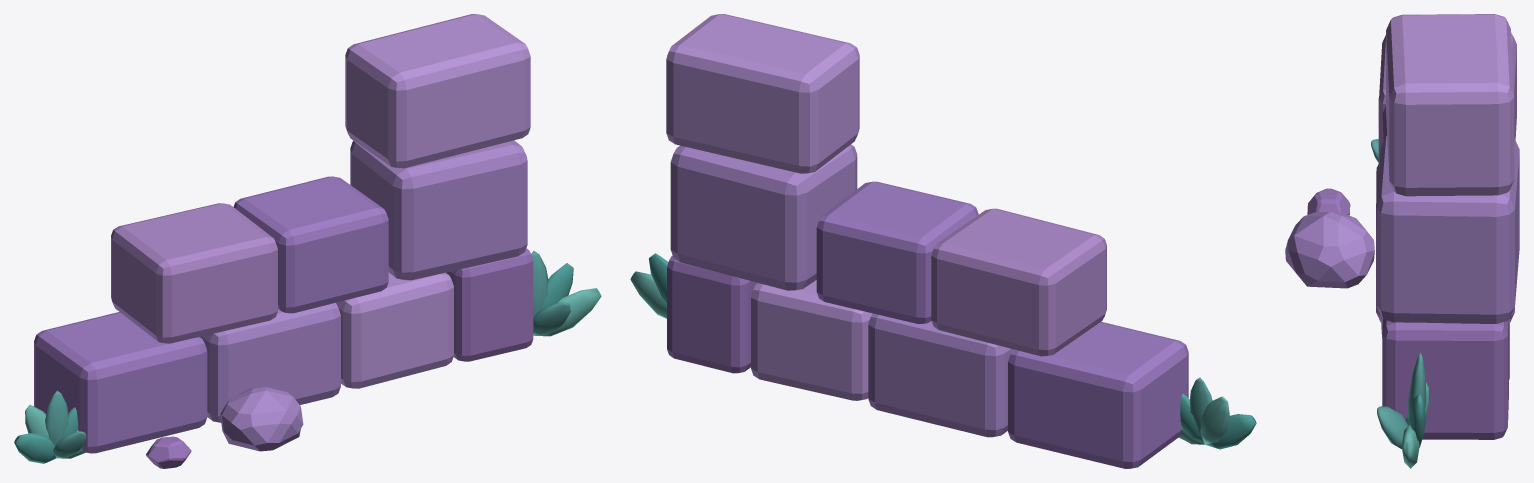
Rendered from low_stone_wall_NEW.glb.
3 views of the same model, side by side, from view 1: azimuth 30°, elevation 25°; view 2: azimuth 150°, elevation 25°; view 3: azimuth 270°, elevation 25° (orthographic). The views are drawn at different scales.
Visible parts, largest first — view 1: low_stone_wall_NEW_visual; view 2: low_stone_wall_NEW_visual; view 3: low_stone_wall_NEW_visual.
Boxes of the visible parts, x1,y1,x2,y2 form: low_stone_wall_NEW_visual: [14, 14, 601, 468]; low_stone_wall_NEW_visual: [630, 14, 1256, 468]; low_stone_wall_NEW_visual: [1285, 14, 1519, 468].
Bounding box in the file's own units: 3.57 × 1.75 × 1.04.
